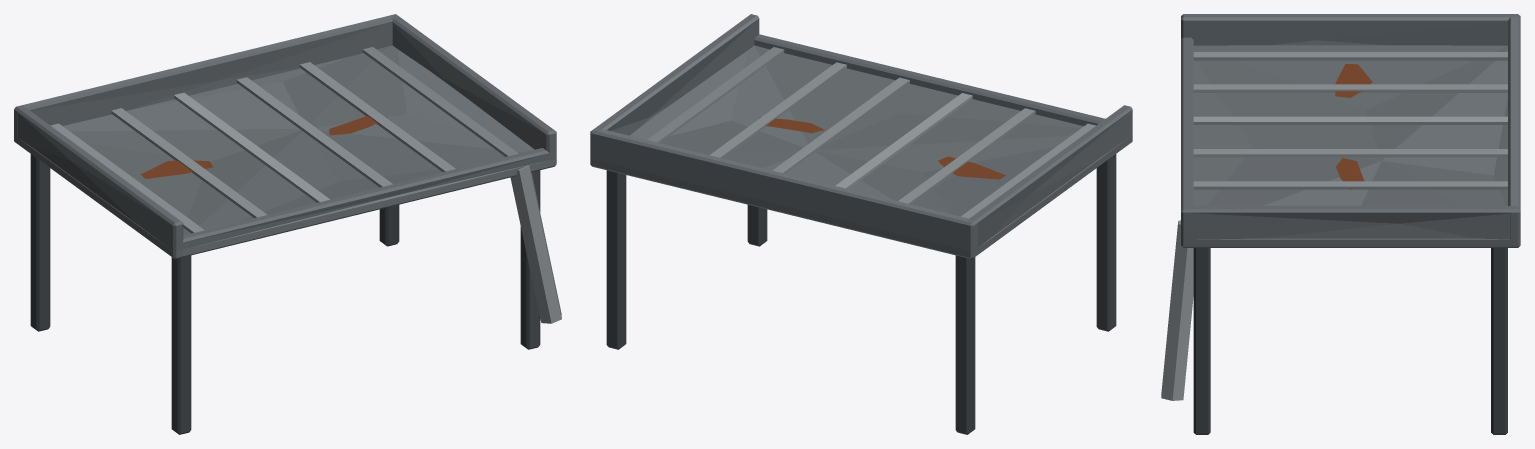
Rendered from rain_collector_bolshaya_ploschadka_idle.glb.
3 views of the same model, side by side, from view 1: azimuth 30°, elevation 25°; view 2: azimuth 150°, elevation 25°; view 3: azimuth 270°, elevation 25° (orthographic). The views are drawn at different scales.
Parts seen in each view (by area): view 1: rain_collector_bolshaya_ploschadka_idle; view 2: rain_collector_bolshaya_ploschadka_idle; view 3: rain_collector_bolshaya_ploschadka_idle.
Part boxes in pixels (x1,y1,x2,y2): rain_collector_bolshaya_ploschadka_idle: (14, 14, 561, 434); rain_collector_bolshaya_ploschadka_idle: (590, 14, 1132, 434); rain_collector_bolshaya_ploschadka_idle: (1161, 14, 1520, 434).
Bounding box in the file's own units: 1.1 × 0.6 × 0.8461.
Materials: 1 (1 with a texture image).
